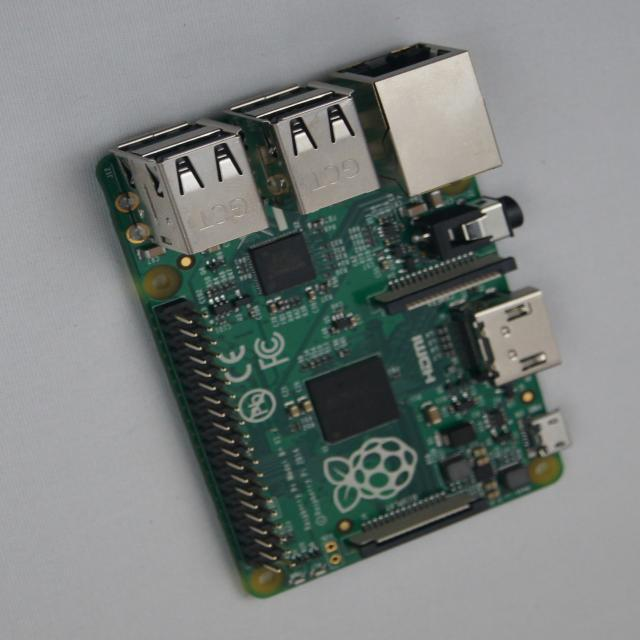Raspberry Pi 1 B-: (98, 44, 569, 597)
